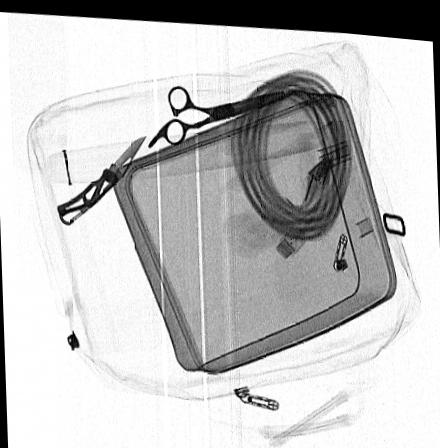Knife: (56, 131, 145, 223)
Scissors: (146, 82, 285, 145)
